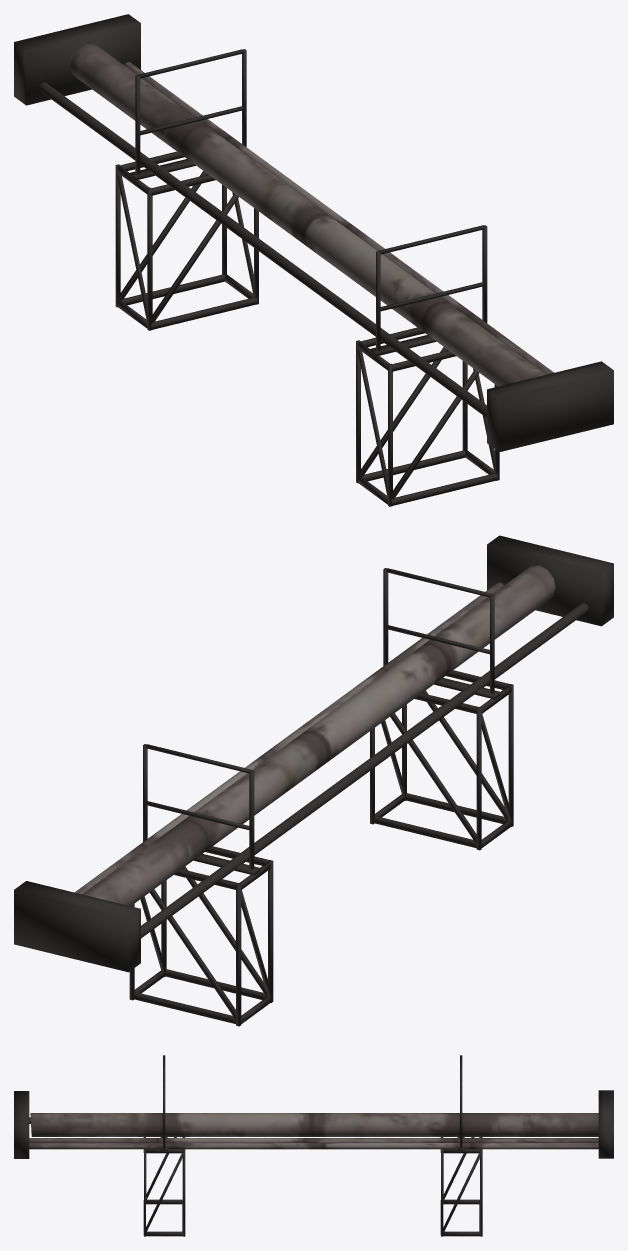
Rendered from Pipe_4.glb.
3 views of the same model, one above another, from view 1: azimuth 30°, elevation 25°; view 2: azimuth 150°, elevation 25°; view 3: azimuth 270°, elevation 25° (orthographic). The views are drawn at different scales.
Parts seen in each view (by area): view 1: Pipe_4; view 2: Pipe_4; view 3: Pipe_4.
Boxes of the visible parts, bbox=[...] form: Pipe_4: bbox=[14, 14, 613, 506]; Pipe_4: bbox=[14, 535, 613, 1026]; Pipe_4: bbox=[14, 1055, 613, 1236].
Bounding box in the file's own units: 2.19 × 4.25 × 15.44.
Materials: 1 (1 with a texture image).
